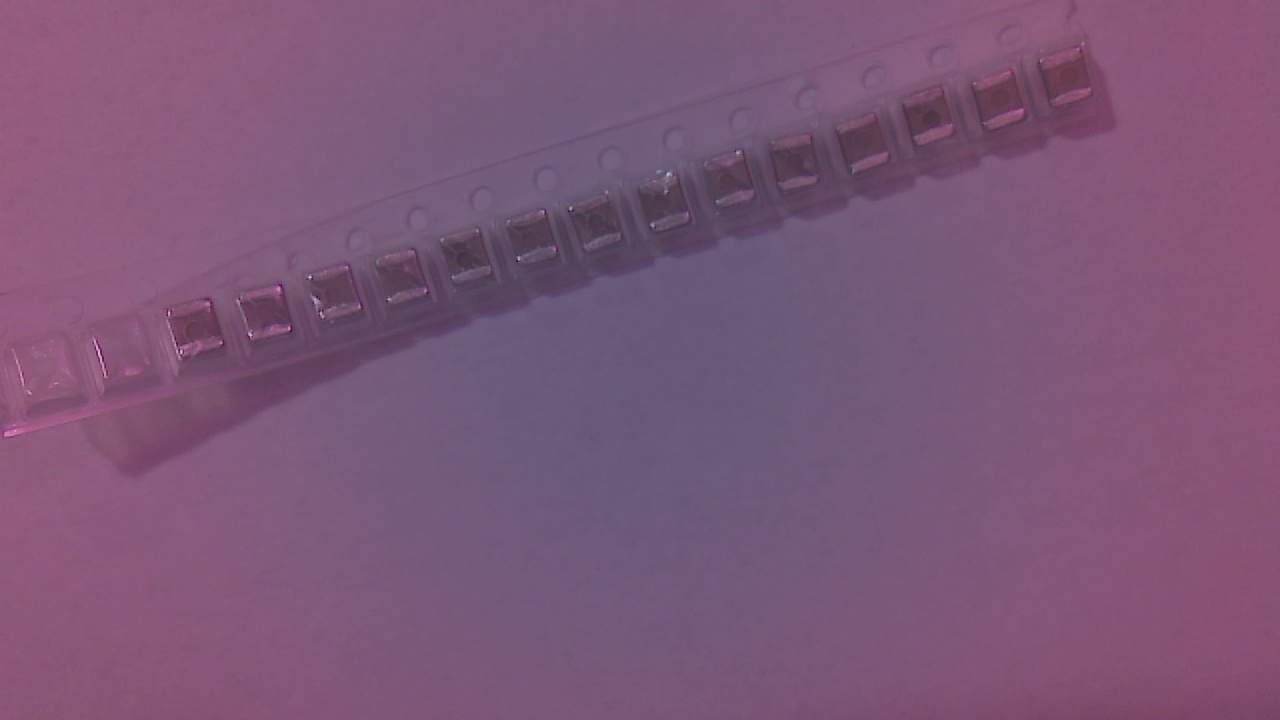Condensator: (171, 301, 228, 367), (312, 266, 366, 329), (1043, 53, 1099, 113), (643, 179, 696, 242), (442, 232, 496, 293), (381, 254, 435, 315), (575, 196, 627, 257), (245, 290, 297, 351), (906, 92, 961, 149), (711, 152, 759, 216), (843, 116, 892, 178), (512, 211, 559, 275), (776, 139, 827, 197), (980, 79, 1031, 130)
